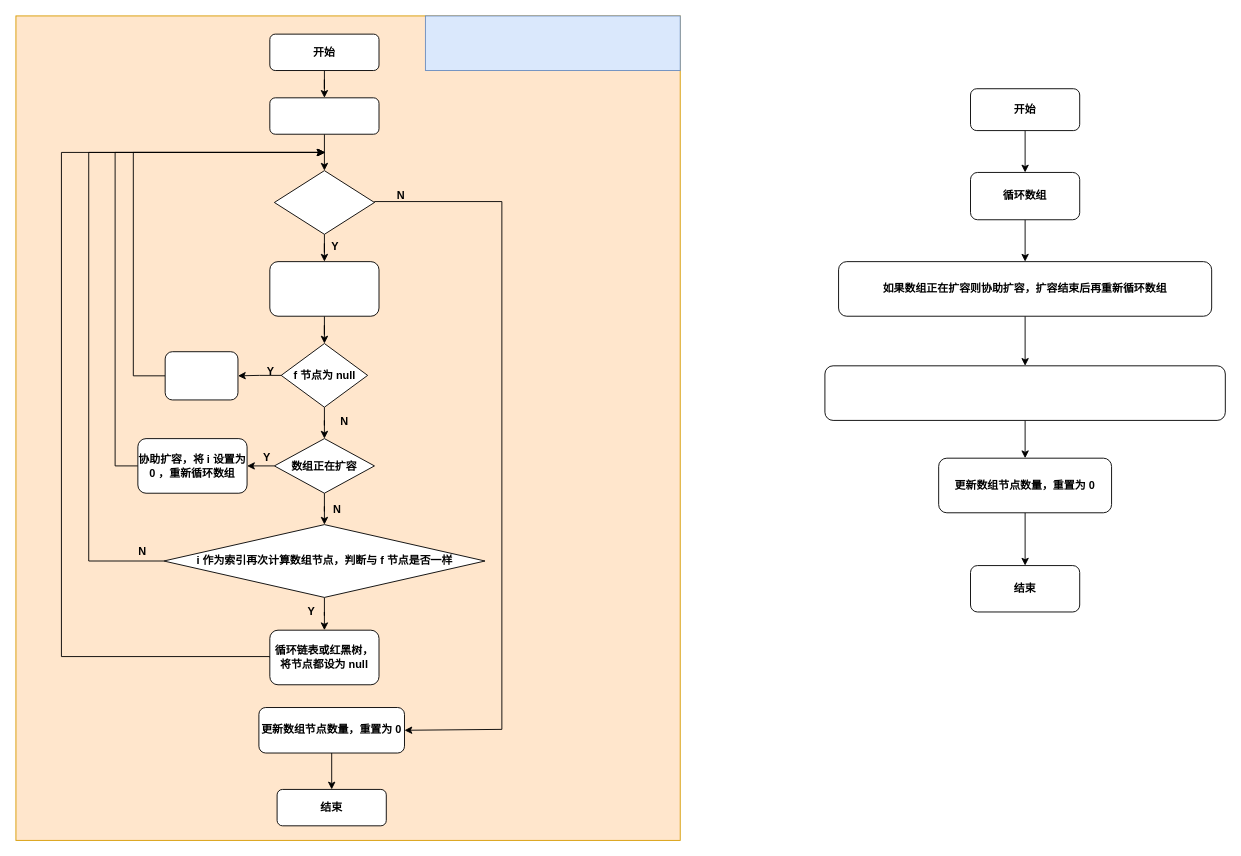
This 1241x856 diagram has some shape labels left out. Each missing label, with the centre of its shape:
"ConcurrentHashMap.clear()" belongs at point (552, 43).
"i = 0" belongs at point (324, 115).
"i 小于数组长度" belongs at point (323, 202).
"变量 i 作为数组索引，查找到 f 节点" belongs at point (324, 288).
"如果数组节点是链表或红黑树结构则遍历链表或红黑树的节点并设置为null" belongs at point (1024, 392).
"索引 ++i" belongs at point (201, 375).
